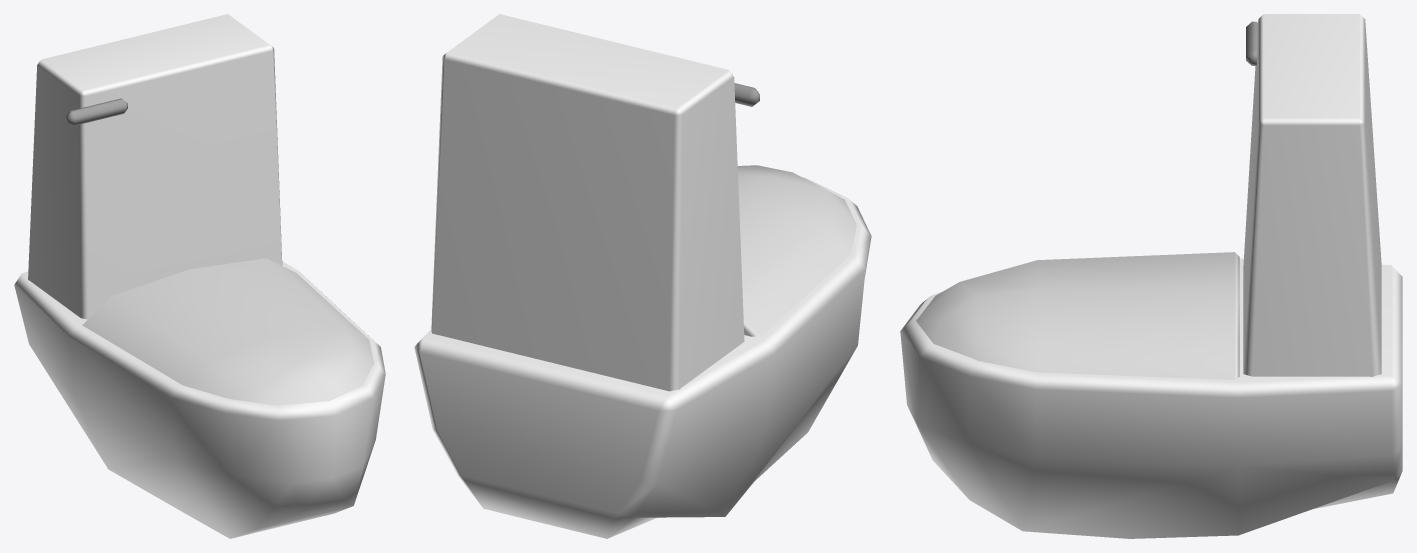
Rendered from bathroom_030.fbx.
3 views of the same model, side by side, from view 1: azimuth 30°, elevation 25°; view 2: azimuth 150°, elevation 25°; view 3: azimuth 270°, elevation 25° (orthographic). The views are drawn at different scales.
Visible parts, largest first — view 1: bathroom_030; view 2: bathroom_030; view 3: bathroom_030.
Boxes of the visible parts, box(x1,y1,x2,y2) form: bathroom_030: box(14, 14, 385, 538); bathroom_030: box(414, 14, 871, 538); bathroom_030: box(900, 14, 1402, 538).
Size of the model in its own units: 64.66 by 103 by 100.
